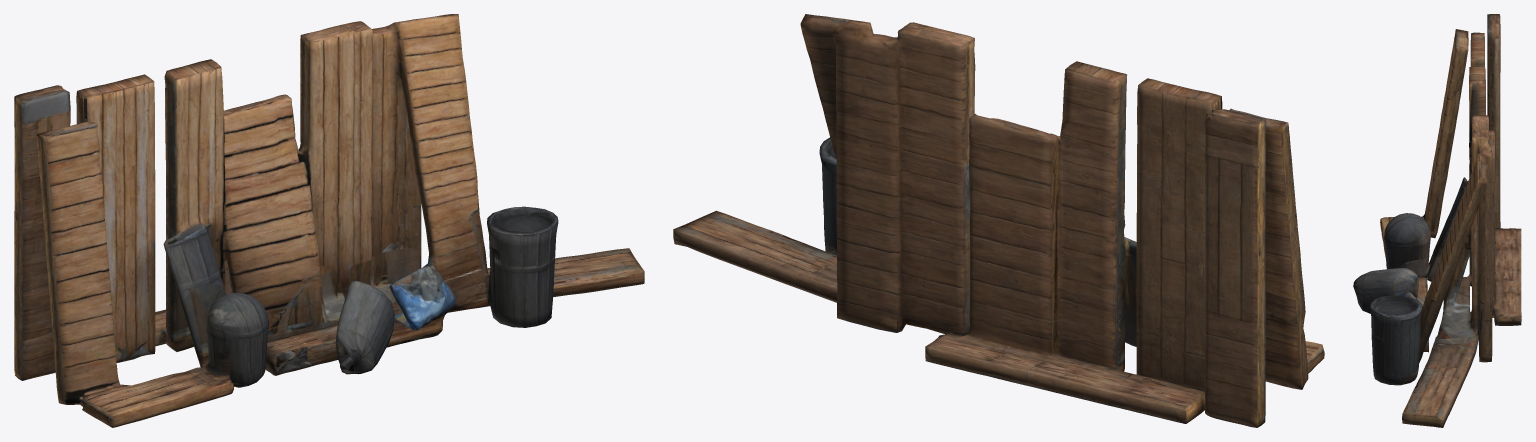
File: wood_plans_and_trash.glb
The picture shows the model from 3 angles, left to right: view 1: azimuth 30°, elevation 25°; view 2: azimuth 150°, elevation 25°; view 3: azimuth 270°, elevation 25°; orthographic projection. The views are drawn at different scales.
Size of the model in its own units: 2 by 0.9286 by 0.6816.
Materials: 1 (1 with a texture image).
